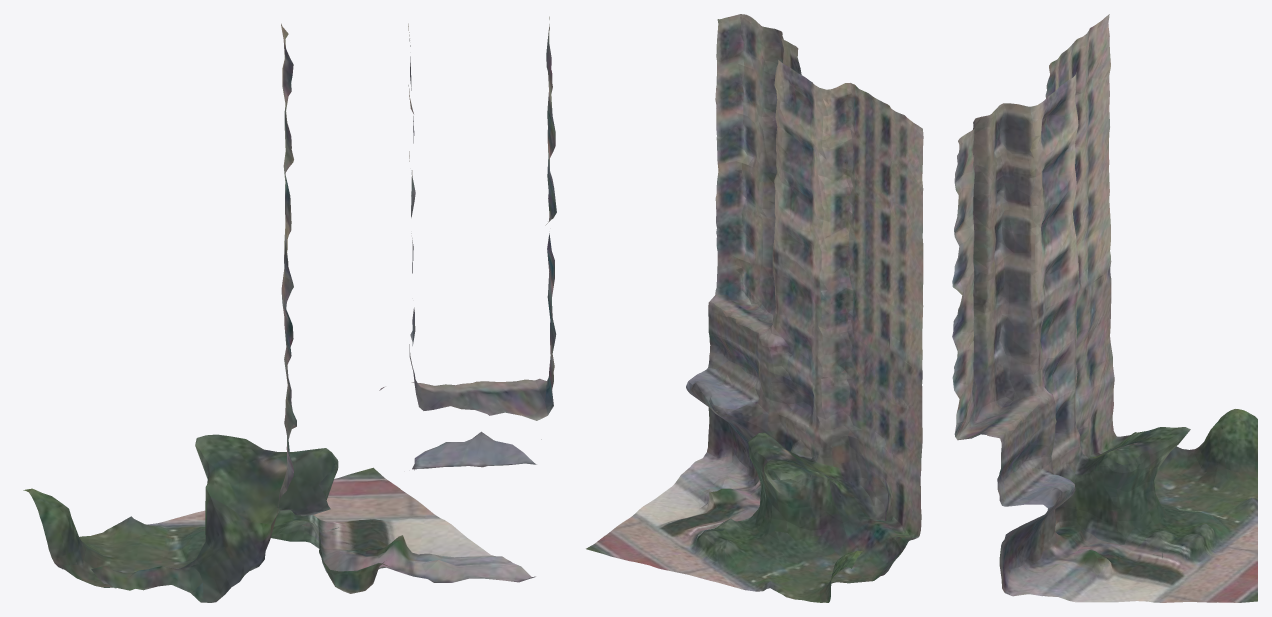
File: Tile_+001_+004_L22_00011300.glb
3 renders of one model, left to right at view 1: azimuth 30°, elevation 25°; view 2: azimuth 150°, elevation 25°; view 3: azimuth 270°, elevation 25°, orthographic. The views are drawn at different scales.
Parts seen in each view (by area): view 1: rtc; view 2: rtc; view 3: rtc.
Part boxes in pixels (left/top/right/bottom): rtc: left=23, top=16, right=556, bottom=602; rtc: left=586, top=14, right=923, bottom=602; rtc: left=952, top=14, right=1257, bottom=602.
Bounding box in the file's own units: 12.56 × 19.62 × 11.96.
1 material, 1 textured.
